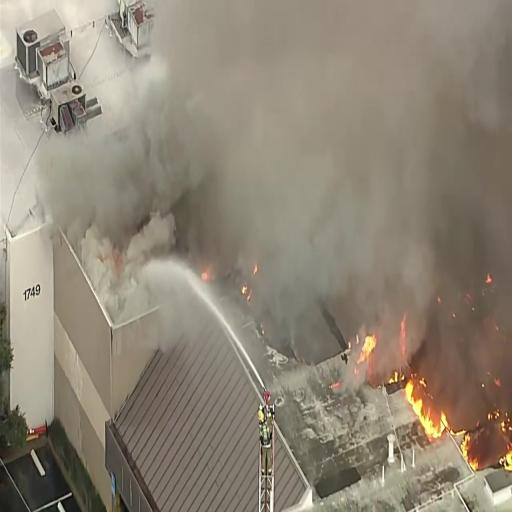fire: (410, 395, 489, 460)
